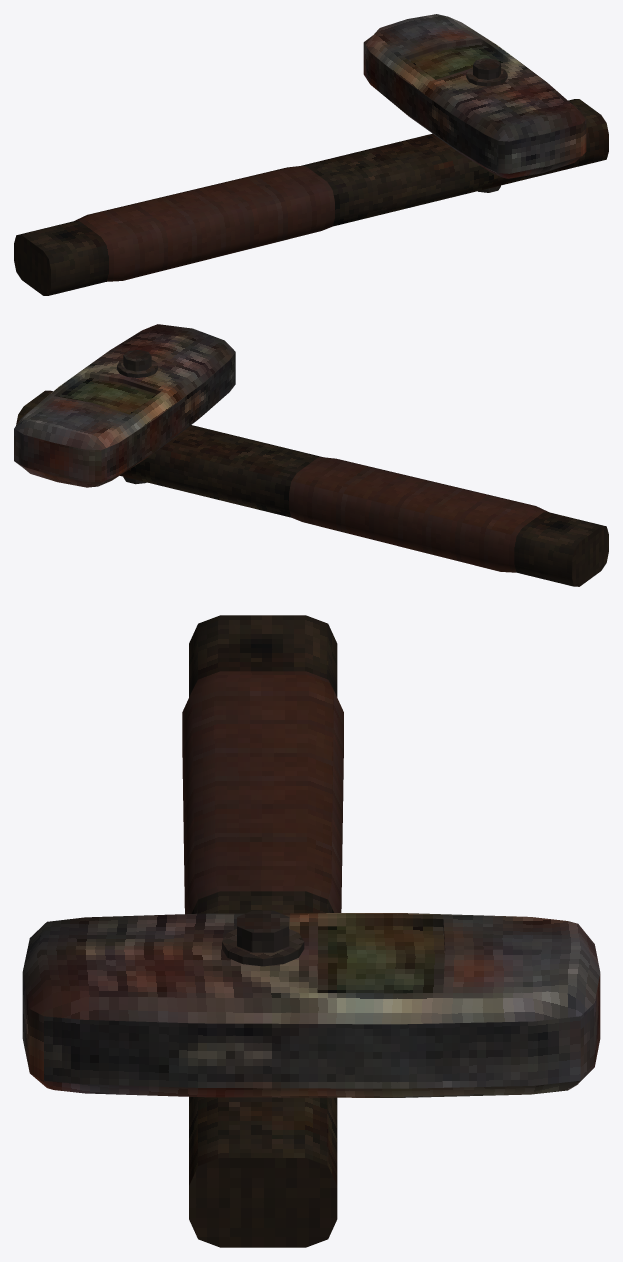
Rendered from cell_phone_hammer_mx_1.glb.
3 renders of one model, top to bottom at view 1: azimuth 30°, elevation 25°; view 2: azimuth 150°, elevation 25°; view 3: azimuth 270°, elevation 25°, orthographic. The views are drawn at different scales.
Visible parts, largest first — view 1: cell_phone_hammer_mx_1; view 2: cell_phone_hammer_mx_1; view 3: cell_phone_hammer_mx_1.
Boxes of the visible parts, x1,y1,x2,y2 form: cell_phone_hammer_mx_1: [14, 14, 608, 295]; cell_phone_hammer_mx_1: [14, 324, 608, 586]; cell_phone_hammer_mx_1: [22, 615, 600, 1247].
Bounding box in the file's own units: 0.468 × 0.0986 × 0.2106.
Materials: 1 (1 with a texture image).
